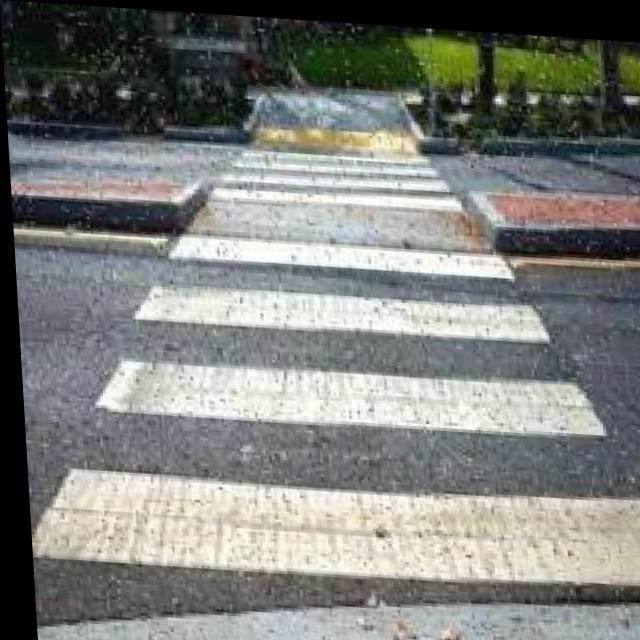zebra: (6, 132, 640, 588)
